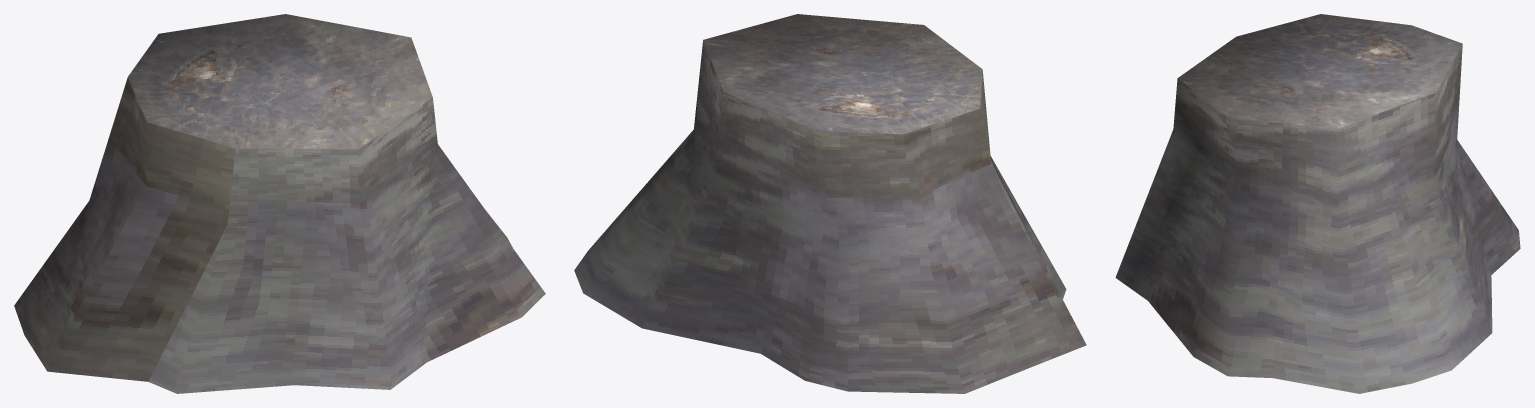
Rendered from tree_trunk.glb.
The picture shows the model from 3 angles, left to right: view 1: azimuth 30°, elevation 25°; view 2: azimuth 150°, elevation 25°; view 3: azimuth 270°, elevation 25°; orthographic projection. The views are drawn at different scales.
Parts seen in each view (by area): view 1: nature_tree_trunk; view 2: nature_tree_trunk; view 3: nature_tree_trunk.
Part boxes in pixels (x1,y1,x2,y2): nature_tree_trunk: [14, 14, 545, 393]; nature_tree_trunk: [574, 14, 1086, 393]; nature_tree_trunk: [1115, 14, 1520, 393].
Bounding box in the file's own units: 1.11 × 0.5188 × 0.8643.
1 material, 1 textured.
